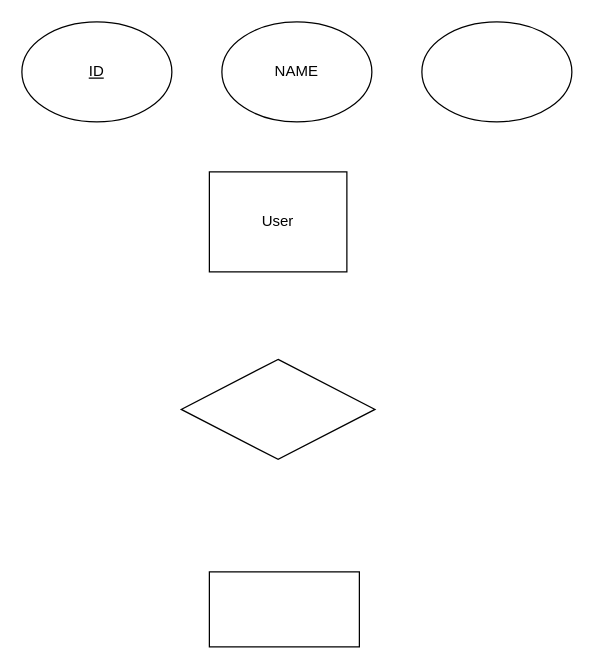
The diagram is 594 pixels wide and 669 high, and some of its shapes have lost their labels. The shapes that lost their labels are listed below. From the top down, each one's box as (x1, y1, x2, y2) in pixels, then its label:
(180, 358, 375, 459): HAS A
(208, 571, 359, 647): RECORD
